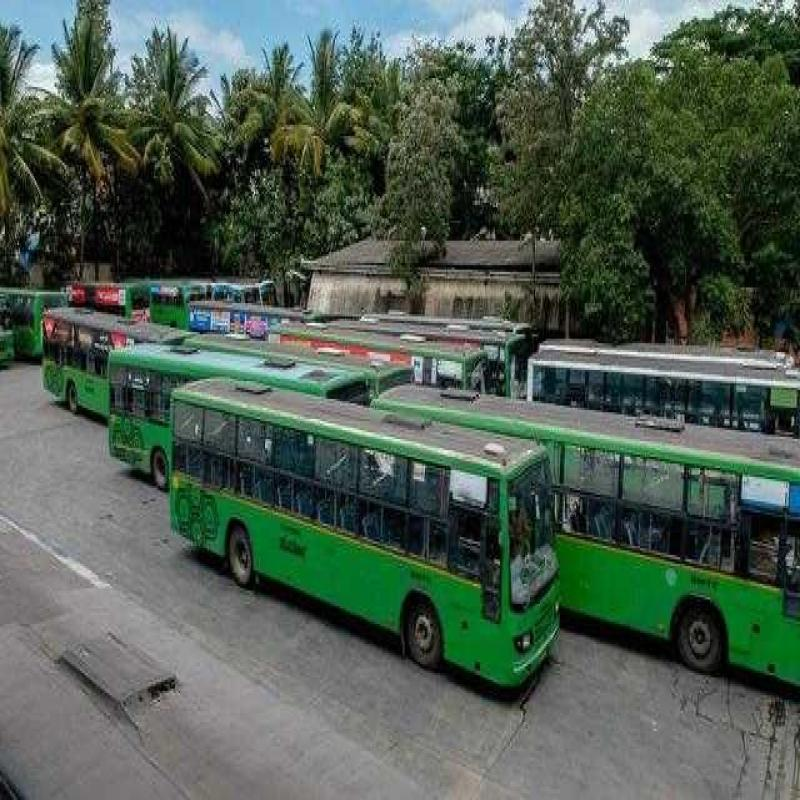bus: (175, 358, 555, 706)
